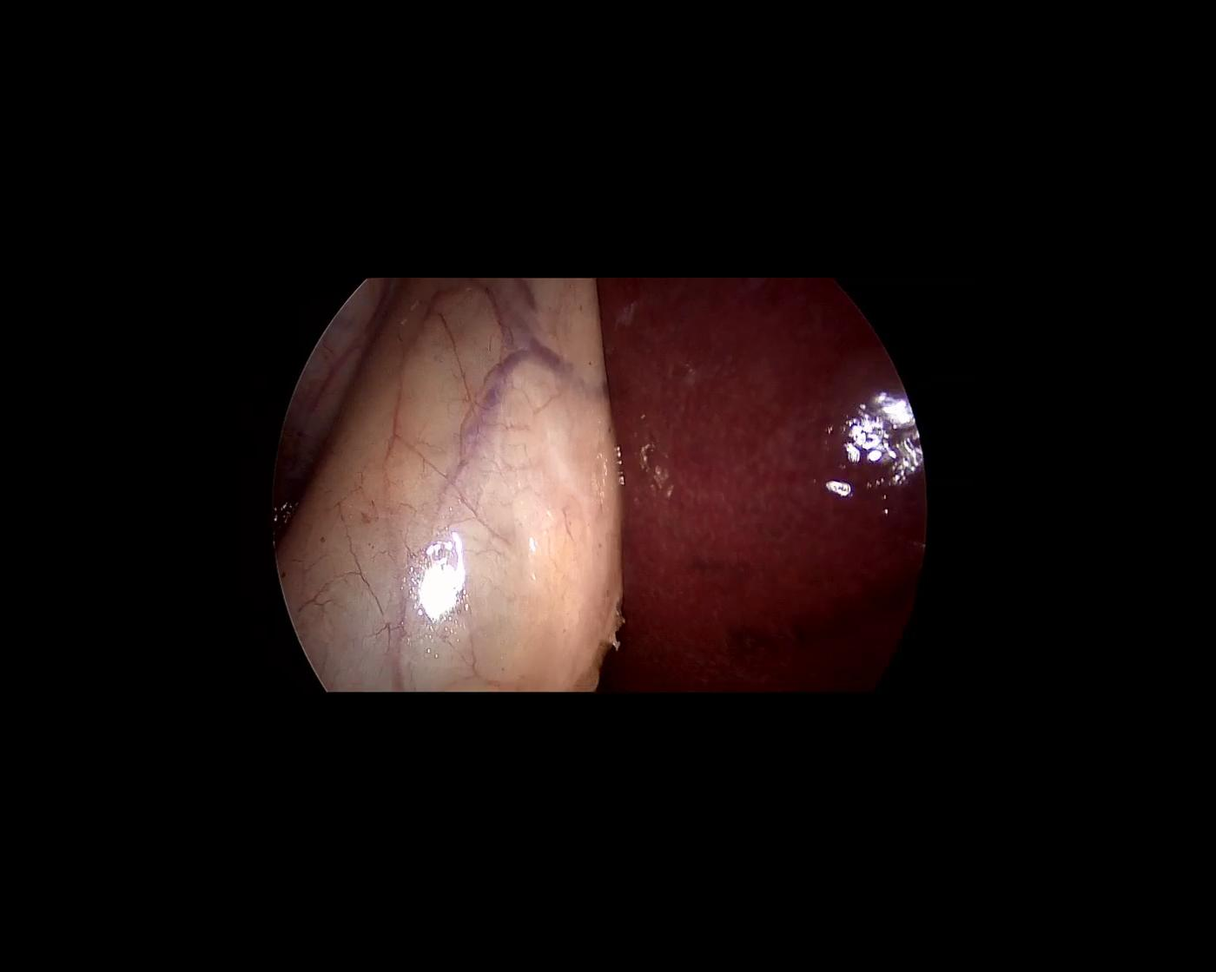Liver: (601, 279, 925, 692)
